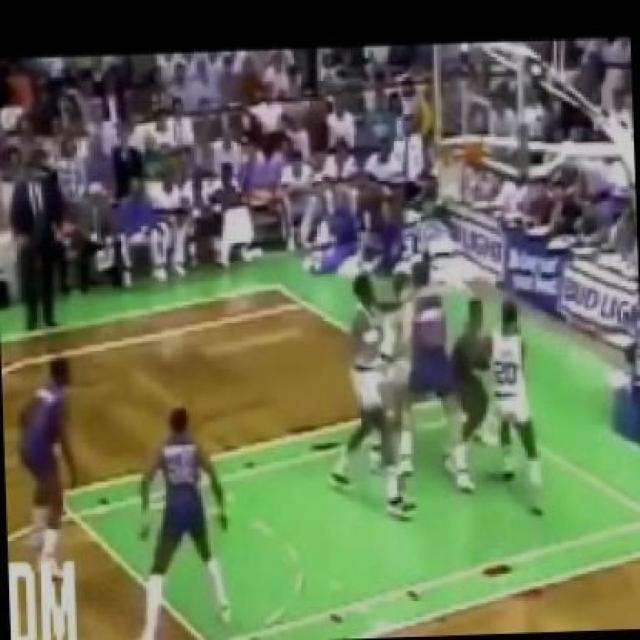fight: (324, 244, 548, 522)
non-fight: (114, 401, 237, 637), (17, 357, 78, 581), (0, 128, 65, 334)
